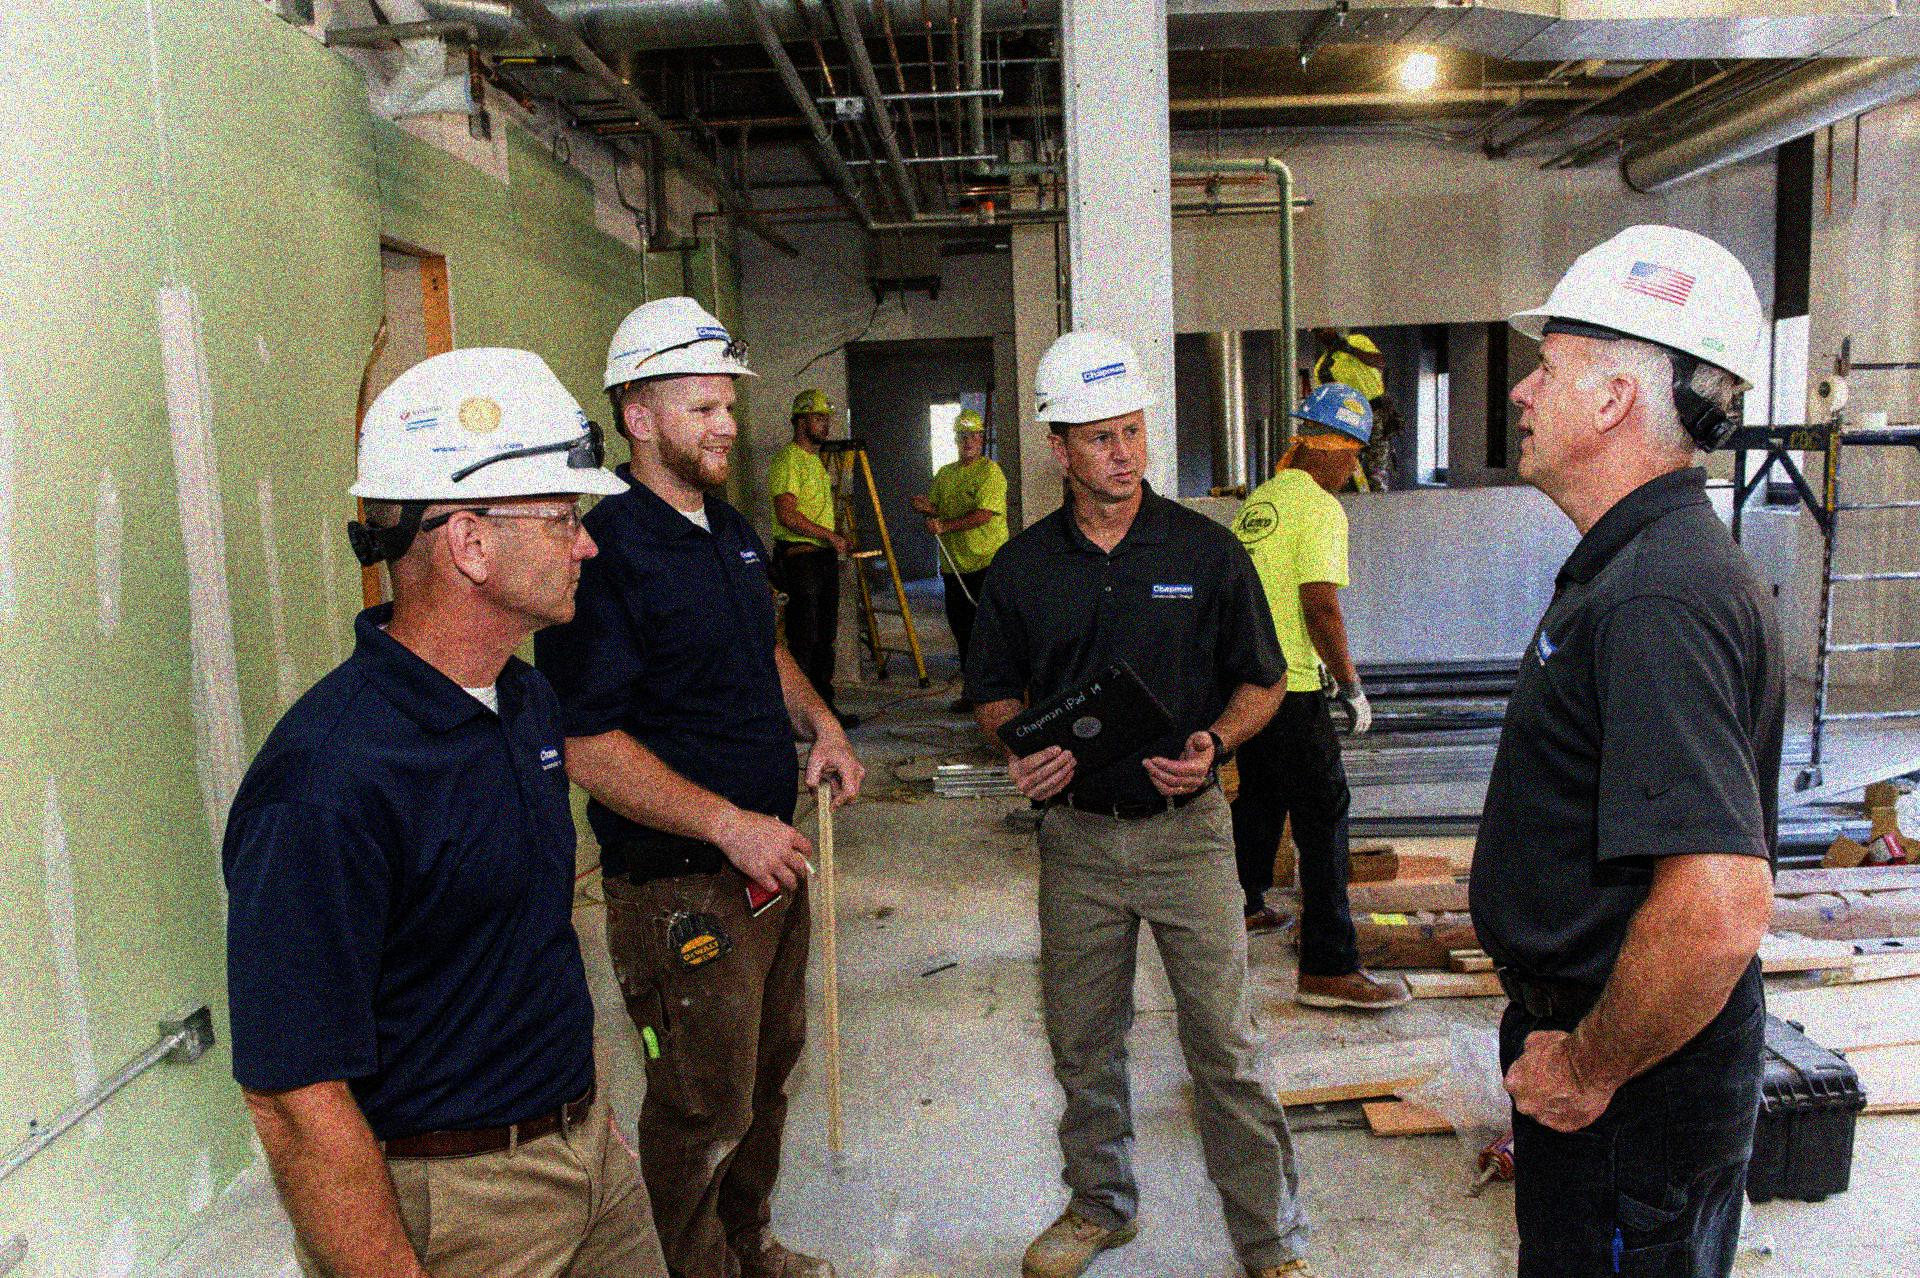helmet: (347, 337, 633, 658), (1498, 223, 1755, 486), (596, 292, 760, 484), (1028, 327, 1165, 489), (1285, 381, 1378, 496), (787, 387, 839, 451), (950, 407, 991, 464)
